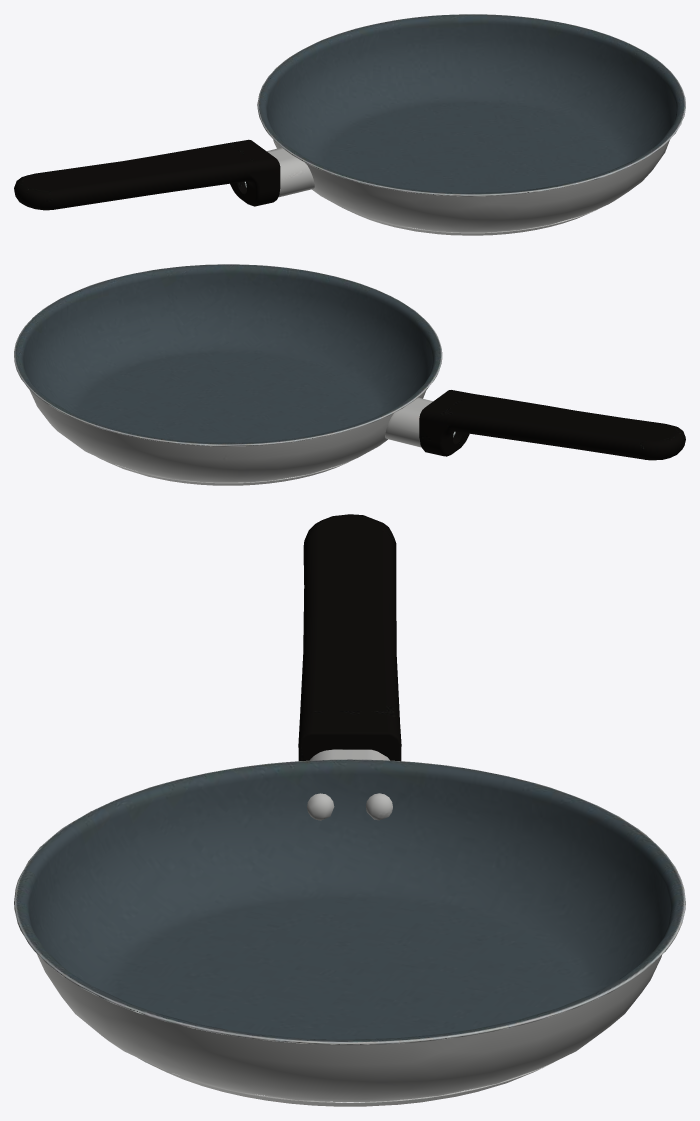
File: middagsmat_patelnia_00545218.glb
3 renders of one model, top to bottom at view 1: azimuth 30°, elevation 25°; view 2: azimuth 150°, elevation 25°; view 3: azimuth 270°, elevation 25°, orthographic. The views are drawn at different scales.
Visible parts, largest first — view 1: middagsmat_patelnia_00545218; view 2: middagsmat_patelnia_00545218; view 3: middagsmat_patelnia_00545218.
Part boxes in pixels (box(x1,y1,x2,y2)): middagsmat_patelnia_00545218: box(14, 14, 685, 235); middagsmat_patelnia_00545218: box(14, 264, 685, 485); middagsmat_patelnia_00545218: box(14, 514, 685, 1106).
Bounding box in the file's own units: 0.4321 × 0.0598 × 0.251.
Materials: 1 (1 with a texture image).
